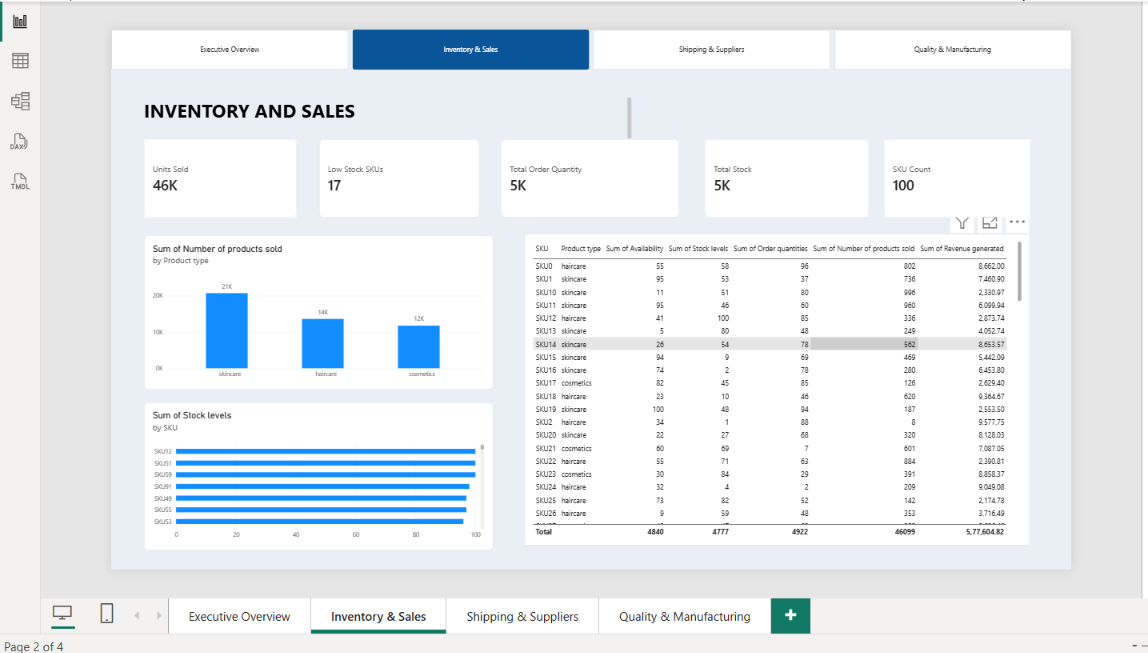

Layout of this report page (visuals, bound fields, positions):
{"tool":"powerbi","page":{"name":"Inventory & Sales","canvas":[1920,1080],"ordinal":1},"visuals":[{"type":"textbox","box":[66,136,974,84],"z":0},{"type":"cardVisual","fields":{"Data":["SupplyChainData.Total Stock"]},"box":[1187.5,220,327.5,155],"z":1000},{"type":"cardVisual","fields":{"Data":["SupplyChainData.Low Stock SKUs"]},"box":[415,220,320,155],"z":2000},{"type":"cardVisual","fields":{"Data":["SupplyChainData.Total Order Quantity"]},"box":[780,220,355,155],"z":3000},{"type":"cardVisual","fields":{"Data":["SupplyChainData.Units Sold"]},"box":[65,220,305,155],"z":4000},{"type":"clusteredColumnChart","fields":{"Category":["SupplyChainData.Product type"],"Y":["Sum(SupplyChainData.Number of products sold)"]},"box":[65,412.5,697.5,307.5],"z":5000},{"type":"clusteredBarChart","fields":{"Category":["SupplyChainData.SKU"],"Y":["Sum(SupplyChainData.Stock levels)"]},"box":[65,745,697.5,295],"z":6000},{"type":"tableEx","fields":{"Values":["SupplyChainData.SKU","SupplyChainData.Product type","Sum(SupplyChainData.Availability)","Sum(SupplyChainData.Stock levels)","Sum(SupplyChainData.Order quantities)","Sum(SupplyChainData.Number of products sold)","Sum(SupplyChainData.Revenue generated)"]},"box":[825,407.5,1012.5,625],"z":7000},{"type":"cardVisual","fields":{"Data":["SupplyChainData.SKU Count"]},"box":[1545,220,292.5,155],"z":8000},{"type":"pageNavigator","box":[0,0,1920,80],"z":9000}]}

Visuals, with their boxes on the page's 1920x1080 design canvas (x1, y1, x2, y2). These are canvas units, not pixel positions in the 1148x653 screenshot, which may show the page scaled, cropped or inside an application window:
textbox: BBox(66, 136, 1040, 220)
cardVisual - SupplyChainData.Total Stock: BBox(1188, 220, 1515, 375)
cardVisual - SupplyChainData.Low Stock SKUs: BBox(415, 220, 735, 375)
cardVisual - SupplyChainData.Total Order Quantity: BBox(780, 220, 1135, 375)
cardVisual - SupplyChainData.Units Sold: BBox(65, 220, 370, 375)
clusteredColumnChart - SupplyChainData.Product type x Sum(SupplyChainData.Number of products sold): BBox(65, 412, 762, 720)
clusteredBarChart - SupplyChainData.SKU x Sum(SupplyChainData.Stock levels): BBox(65, 745, 762, 1040)
tableEx - SupplyChainData.SKU x SupplyChainData.Product type: BBox(825, 408, 1838, 1032)
cardVisual - SupplyChainData.SKU Count: BBox(1545, 220, 1838, 375)
pageNavigator: BBox(0, 0, 1920, 80)
